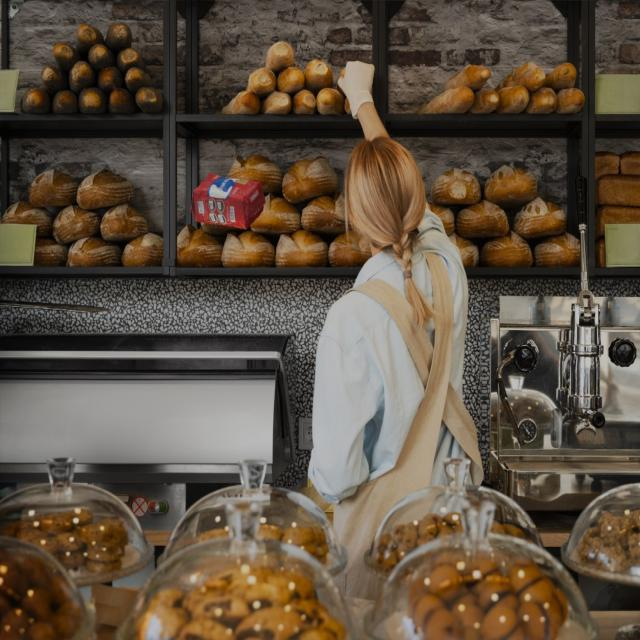mate bag: (190, 167, 266, 230)
